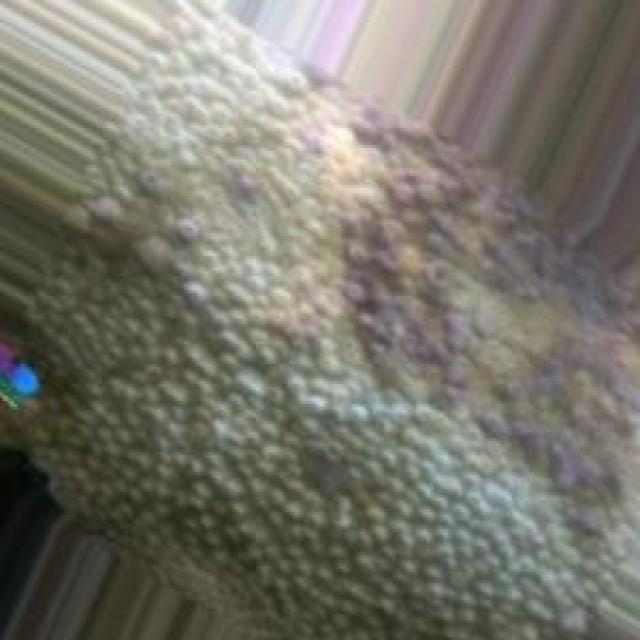Bleached: (20, 7, 639, 638)
